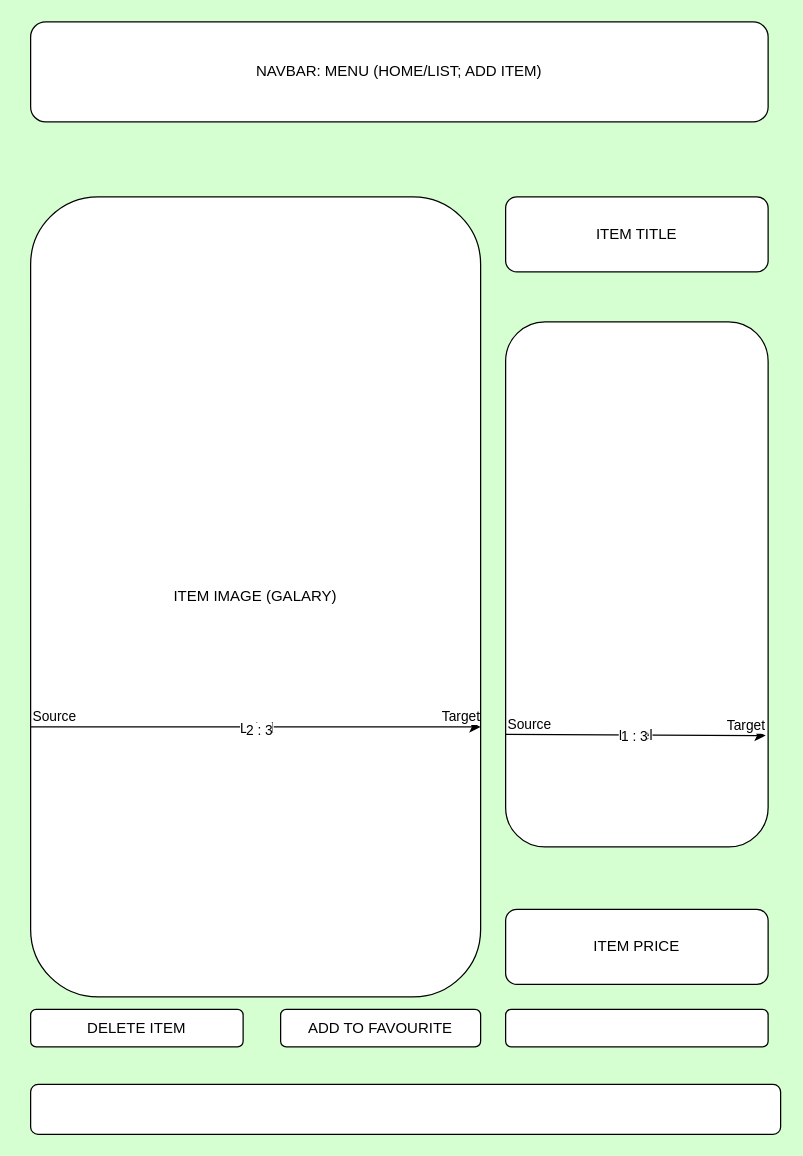
Some shapes in this 803 by 1156 pixel diagram are drawn without their labels. Each missing label, with the centre of its shape:
"BUY" belongs at (x=636, y=1027).
"FOOTER: CREDENTIALS, CONTACTS, TERMS, SOCMEDIA LINKS ETC" belongs at (x=405, y=1108).
"ITEM DESCRIPTION" belongs at (x=636, y=584).
